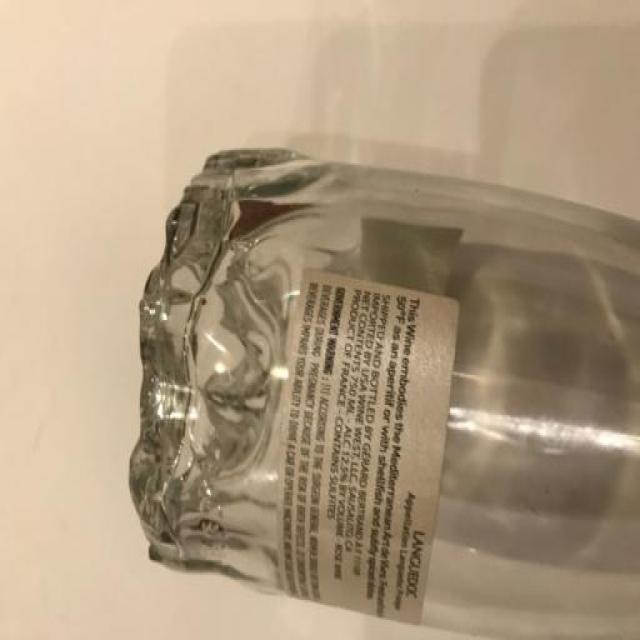Waste: (130, 148, 640, 638)
